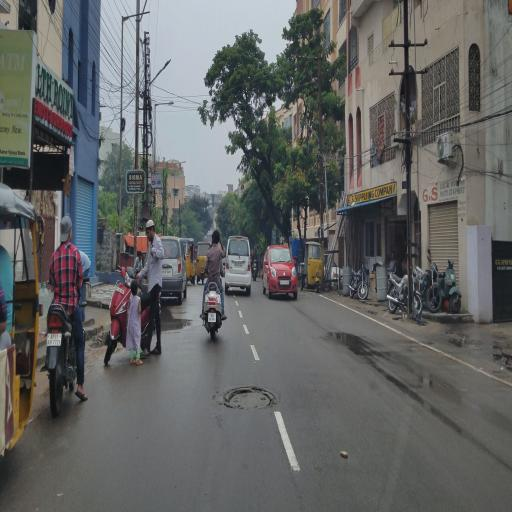street_light_0: (148, 57, 175, 85), (156, 89, 180, 120)
